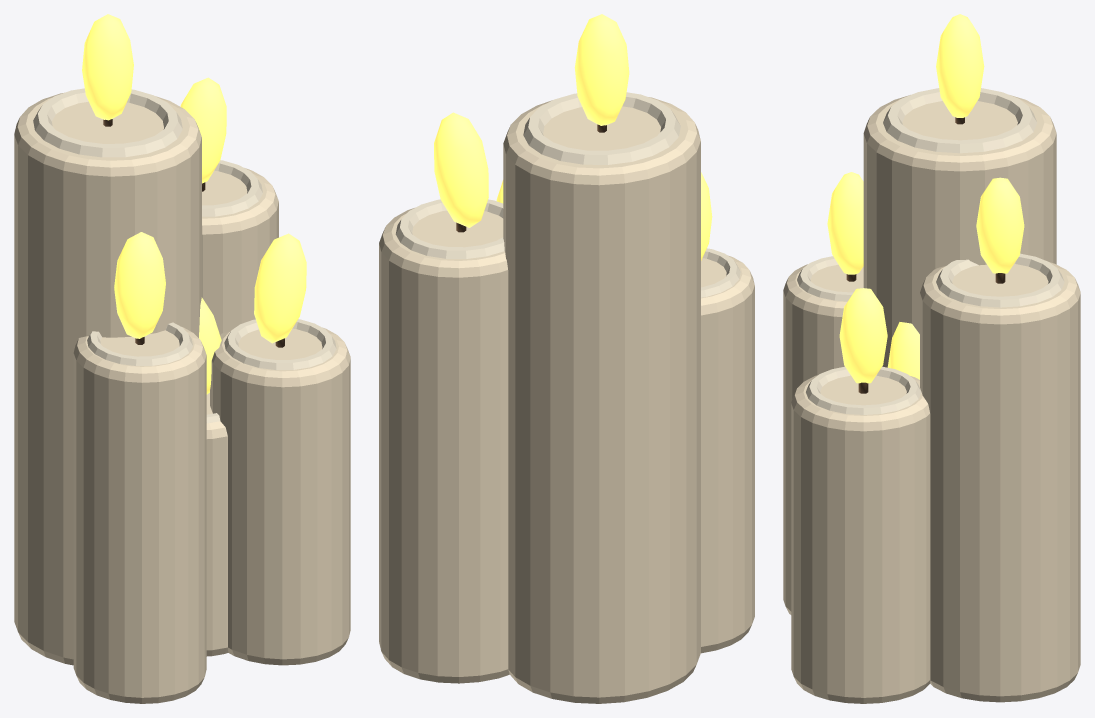
The model's file is lighting-led-candles.glb.
3 views of the same model, side by side, from view 1: azimuth 30°, elevation 25°; view 2: azimuth 150°, elevation 25°; view 3: azimuth 270°, elevation 25° (orthographic). The views are drawn at different scales.
Parts seen in each view (by area): view 1: BS_LEDCandle_00, BS_LEDCandle_03, BS_LEDCandle_02, BS_LEDCandle_01, BS_LEDCandle_04, BS_LEDFlame_02, BS_LEDFlame_03, BS_LEDFlame_00, Torus, BS_LEDFlame_01, Torus.002, Torus.003 (+2 smaller); view 2: BS_LEDCandle_00, BS_LEDCandle_01, BS_LEDCandle_03, BS_LEDFlame_01, BS_LEDFlame_00, Torus, Torus.001, Torus.003, BS_LEDFlame_03; view 3: BS_LEDCandle_01, BS_LEDCandle_02, BS_LEDCandle_00, BS_LEDCandle_03, Torus, BS_LEDFlame_00, BS_LEDFlame_01, BS_LEDFlame_02, BS_LEDFlame_03, Torus.001, Torus.002, BS_LEDFlame_04 (+1 smaller).
Part boxes in pixels (x1,y1,x2,y2): BS_LEDCandle_00: (14, 93, 201, 665); BS_LEDCandle_03: (73, 326, 206, 703); BS_LEDCandle_02: (210, 327, 350, 665); BS_LEDCandle_01: (202, 168, 278, 334); BS_LEDCandle_04: (206, 393, 228, 656); BS_LEDFlame_02: (254, 233, 306, 343); BS_LEDFlame_03: (114, 232, 165, 338); BS_LEDFlame_00: (82, 14, 133, 120); Torus: (33, 88, 182, 157); BS_LEDFlame_01: (180, 77, 226, 183); Torus.002: (224, 319, 336, 370); Torus.003: (87, 322, 192, 365); BS_LEDCandle_00: (503, 97, 700, 703); BS_LEDCandle_01: (379, 208, 509, 683); BS_LEDCandle_03: (701, 255, 754, 653); BS_LEDFlame_01: (434, 112, 488, 227); BS_LEDFlame_00: (574, 14, 629, 125); Torus: (523, 92, 680, 164); Torus.001: (395, 199, 504, 258); Torus.003: (701, 248, 740, 297); BS_LEDFlame_03: (701, 172, 712, 260); BS_LEDCandle_01: (920, 262, 1080, 702); BS_LEDCandle_02: (791, 375, 930, 703); BS_LEDCandle_00: (863, 95, 1056, 367); BS_LEDCandle_03: (783, 264, 863, 614); Torus: (883, 88, 1037, 153); BS_LEDFlame_00: (936, 14, 984, 117); BS_LEDFlame_01: (976, 177, 1024, 273); BS_LEDFlame_02: (839, 288, 887, 383); BS_LEDFlame_03: (827, 172, 863, 274); Torus.001: (936, 253, 1064, 307); Torus.002: (806, 366, 921, 414); BS_LEDFlame_04: (887, 322, 919, 379).
Bounding box in the file's own units: 0.08 × 0.18 × 0.08.
